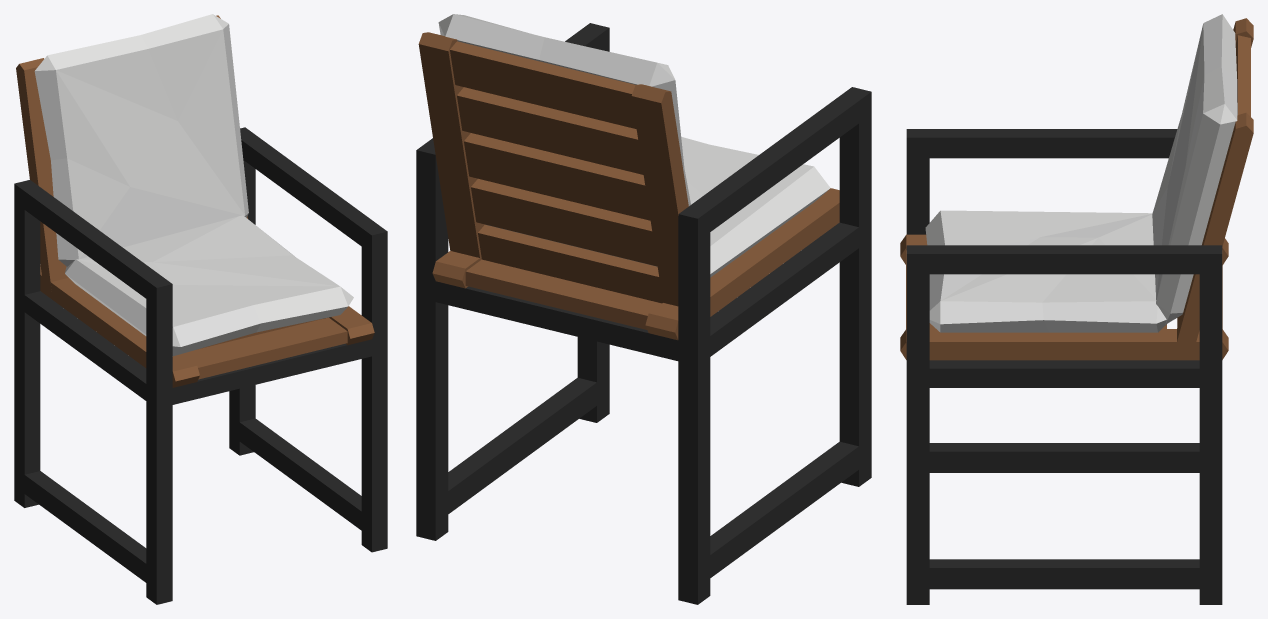
Rendered from furniture-chair-outside-modern-cusion.glb.
3 renders of one model, left to right at view 1: azimuth 30°, elevation 25°; view 2: azimuth 150°, elevation 25°; view 3: azimuth 270°, elevation 25°, orthographic. The views are drawn at different scales.
Parts seen in each view (by area): view 1: chair-outside-modern-cusion; view 2: chair-outside-modern-cusion; view 3: chair-outside-modern-cusion.
Part boxes in pixels (bbox=[...]): chair-outside-modern-cusion: bbox=[14, 14, 387, 604]; chair-outside-modern-cusion: bbox=[416, 14, 871, 604]; chair-outside-modern-cusion: bbox=[900, 14, 1253, 604].
Size of the model in its own units: 0.58 by 1.05 by 0.6939.
